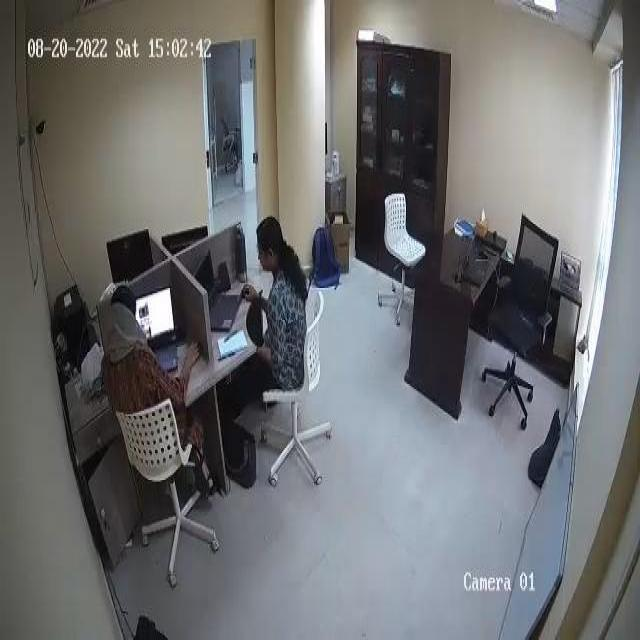bare_hand: (177, 339, 205, 387), (238, 280, 262, 312)
